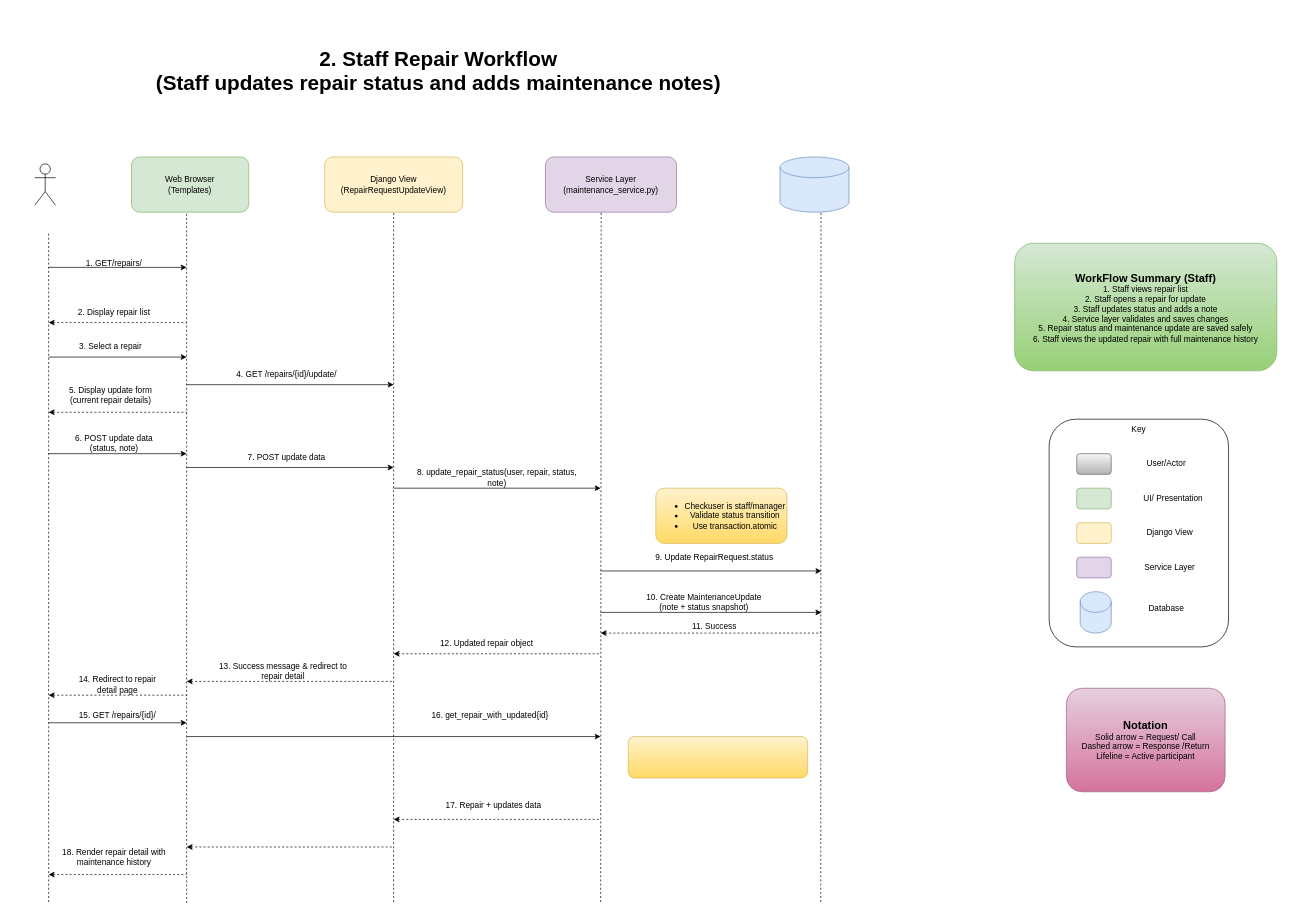
Image size: 1289x916. Some labels were removed from this diagram. Each missing label, with the centre of its shape:
"Database (Models)" goes at (814,184).
"Fetch repair Fetch related maintenance updates" goes at (718,757).
"Maintenance Staff (Logged in)" goes at (45,184).
